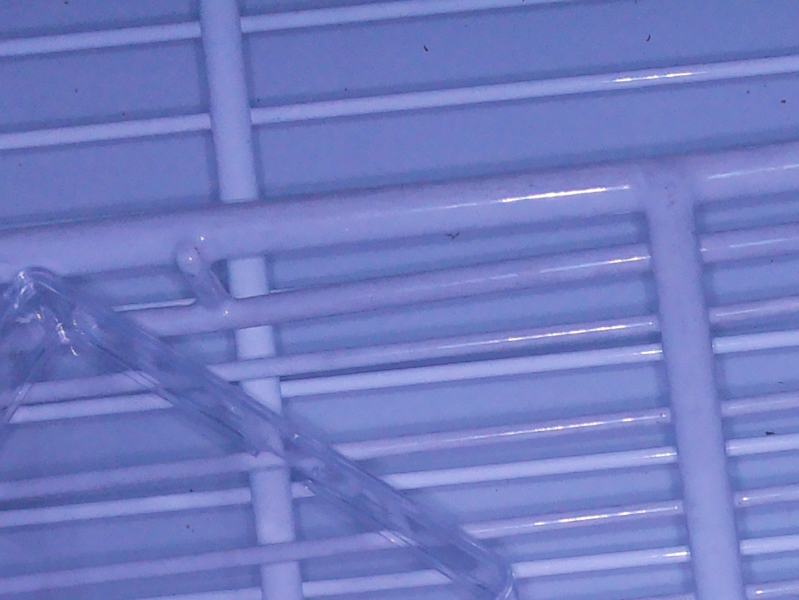plate: (1, 264, 515, 600)
